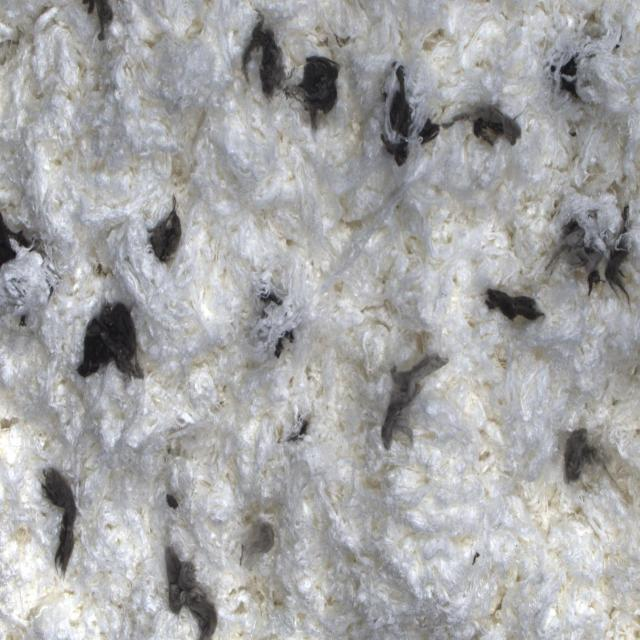dust: (238, 0, 347, 143), (554, 0, 640, 127), (547, 204, 640, 309), (559, 410, 640, 509), (374, 349, 451, 452), (224, 484, 292, 595), (417, 88, 526, 157), (156, 539, 222, 640), (0, 206, 52, 333), (37, 447, 83, 582), (77, 298, 145, 389), (138, 178, 194, 287), (482, 272, 547, 341), (378, 53, 415, 173), (256, 278, 298, 365), (79, 0, 126, 52), (278, 414, 322, 453), (162, 476, 187, 530)
